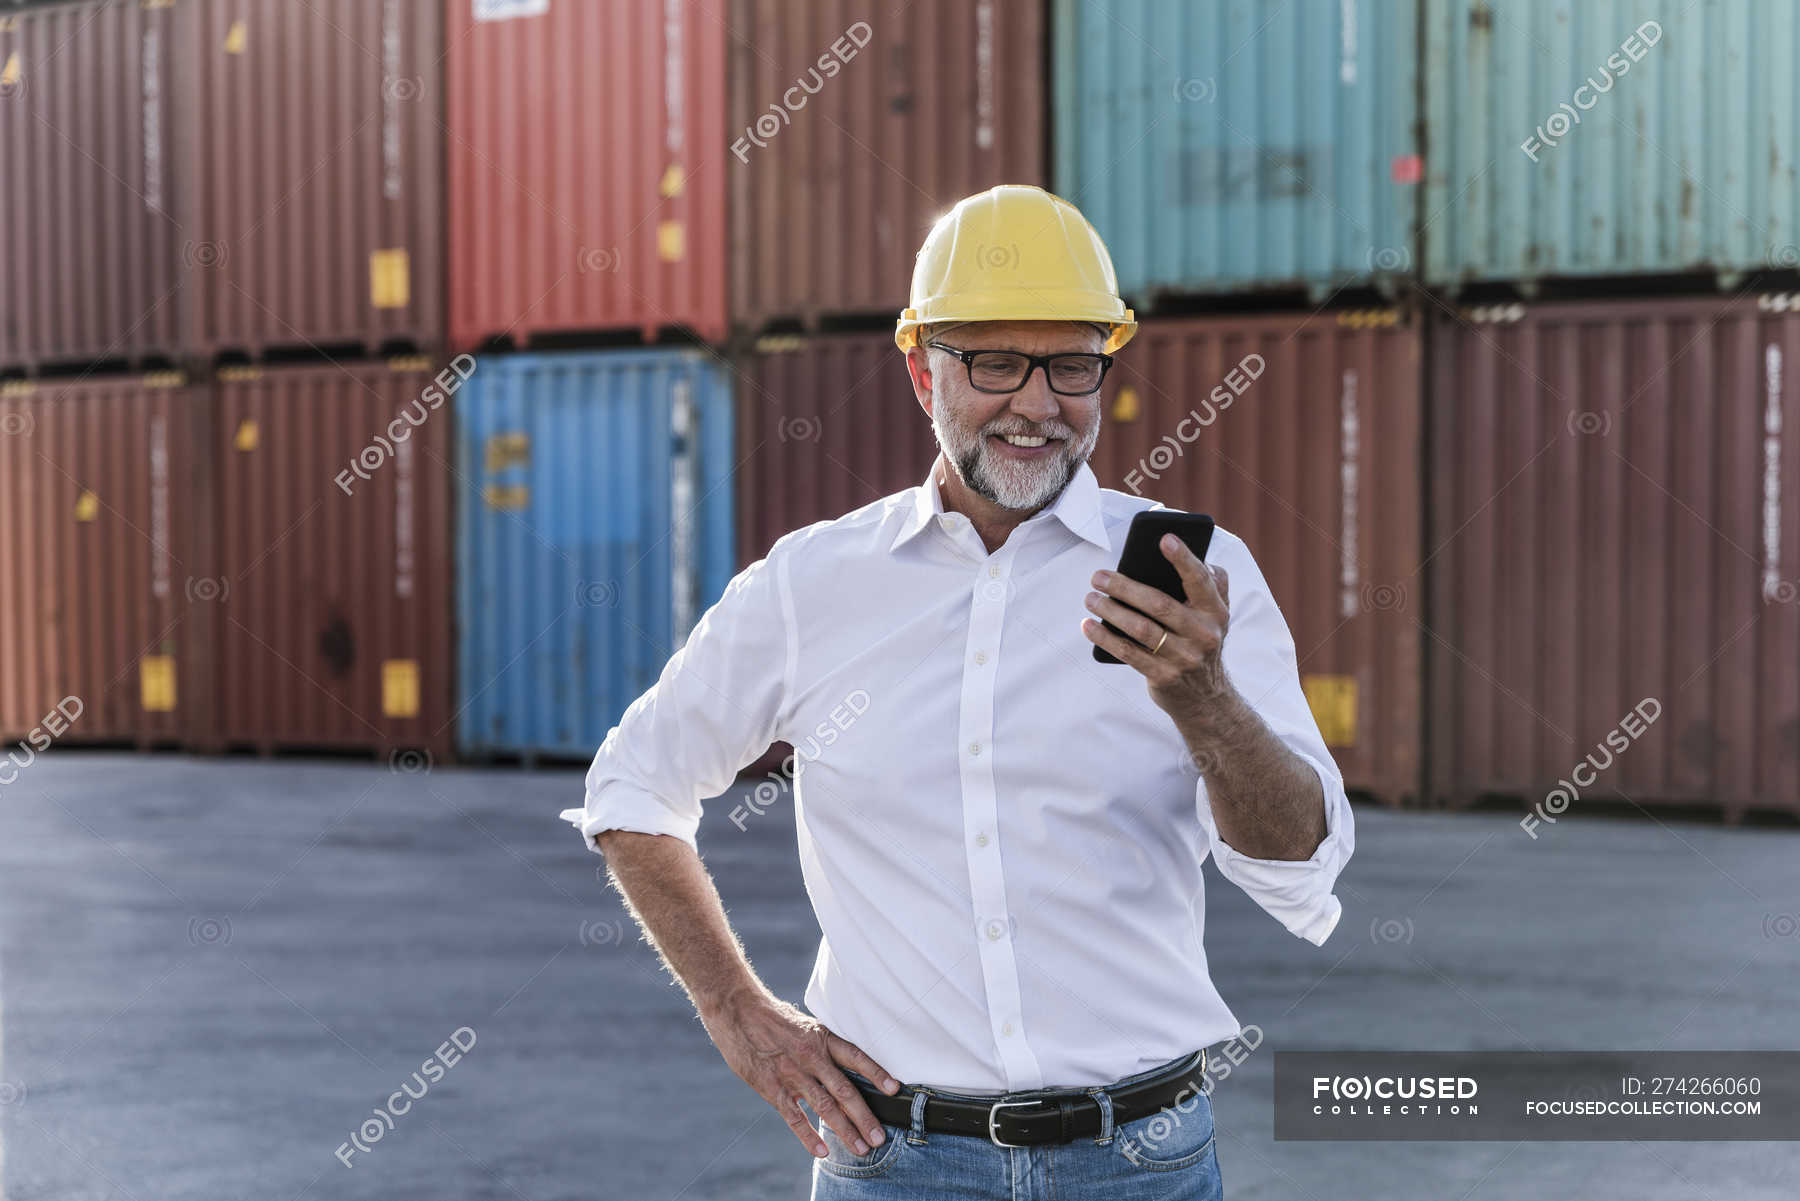Person_wearing_helmet: (884, 166, 1139, 409)
